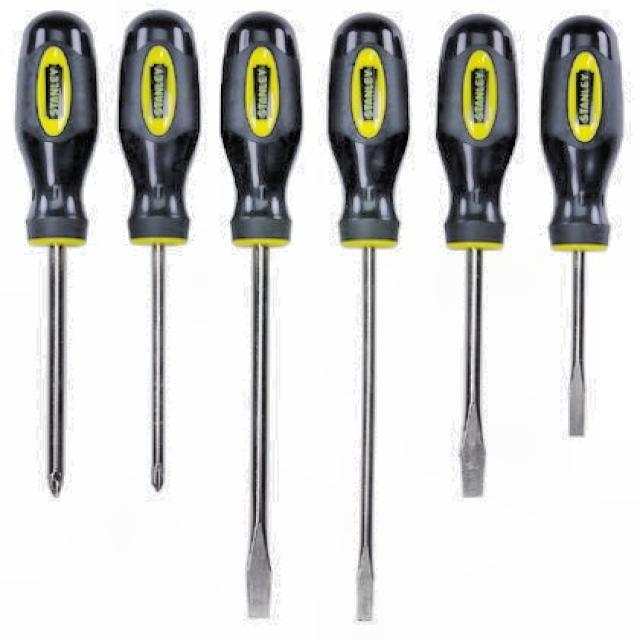screwdriver: (220, 11, 304, 618), (328, 12, 412, 618), (433, 13, 521, 500), (116, 9, 203, 490), (15, 11, 101, 496), (538, 16, 625, 437)
